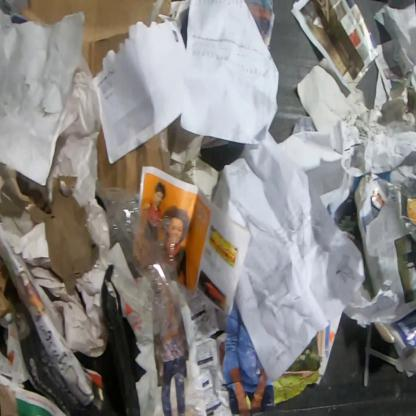cardboard: (17, 0, 173, 79), (96, 125, 170, 206)
rigid_plastic: (363, 323, 405, 387)
soft_plastic: (83, 187, 185, 340)
